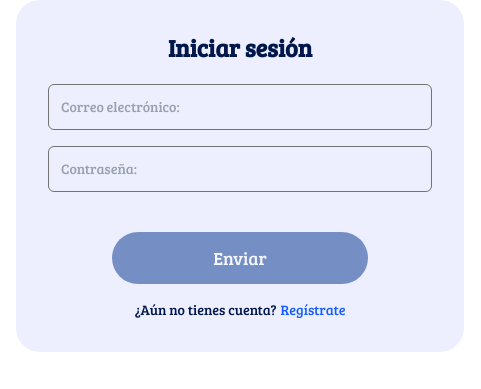
LoginForm › debería renderizar errores de validación si el login no es exitoso
The width and height of the screenshot is (481, 389).
Type "test@example.com" into the field with placeholder "Correo electrónico:" at (240, 107), box [48,84,432,130]
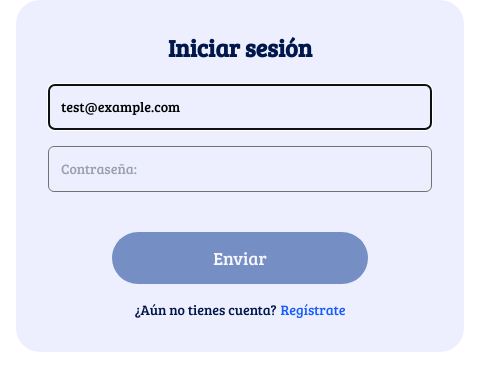
Type "1234" into the password field with placeholder "Contraseña:" at (240, 169), box [48,146,432,192]
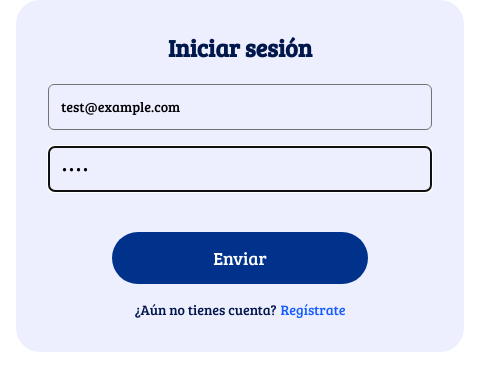
Click the button "Enviar" at (240, 258), box [112,232,368,284]
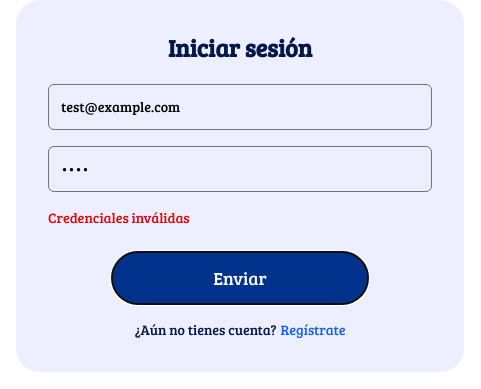
Expected: the text "Credenciales inválidas" is shown, [48,208,190,227]
